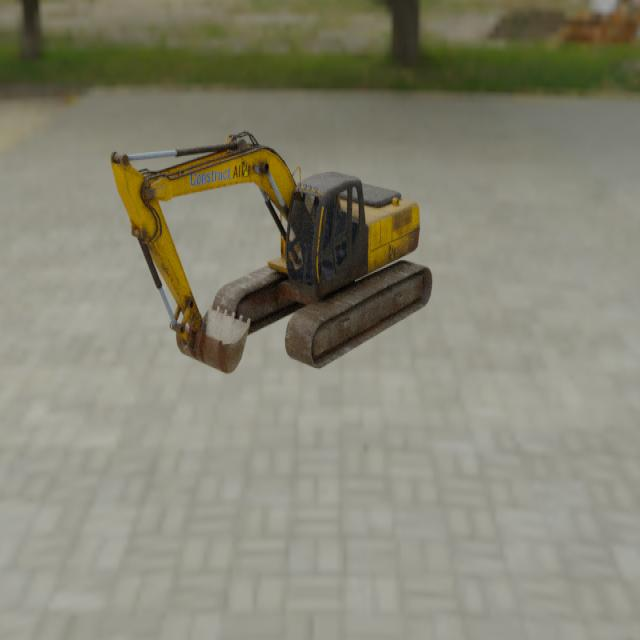excavator: (110, 130, 433, 373)
